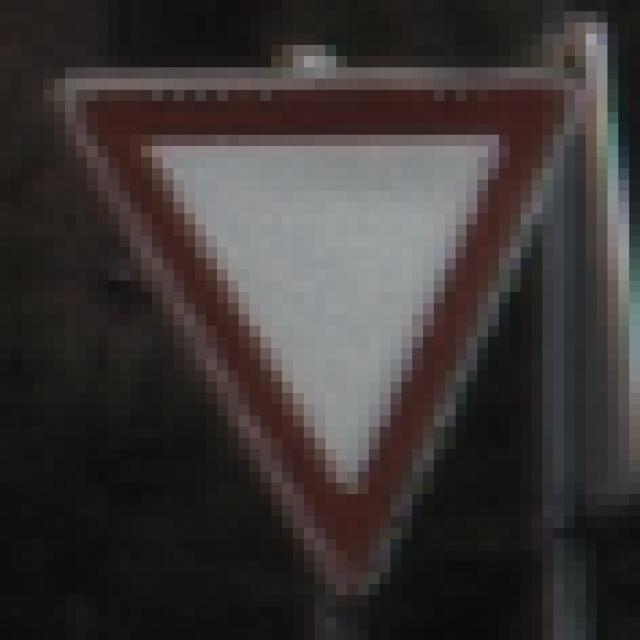Give Way: (55, 68, 587, 585)
